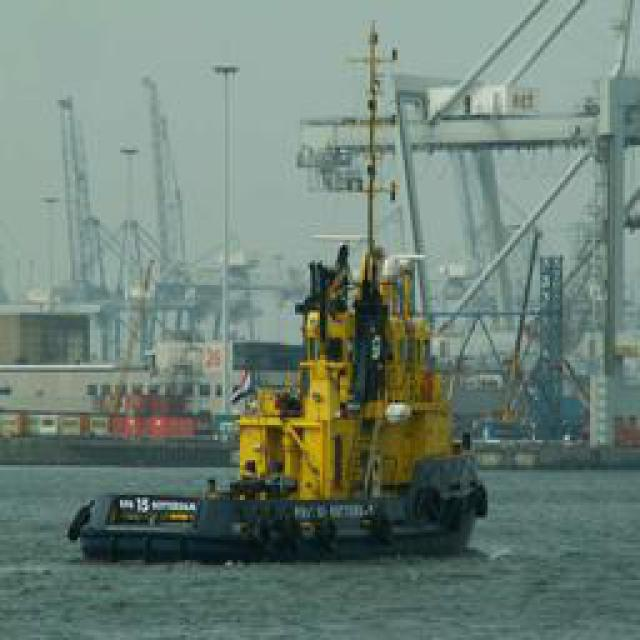Ship: (79, 260, 494, 570)
